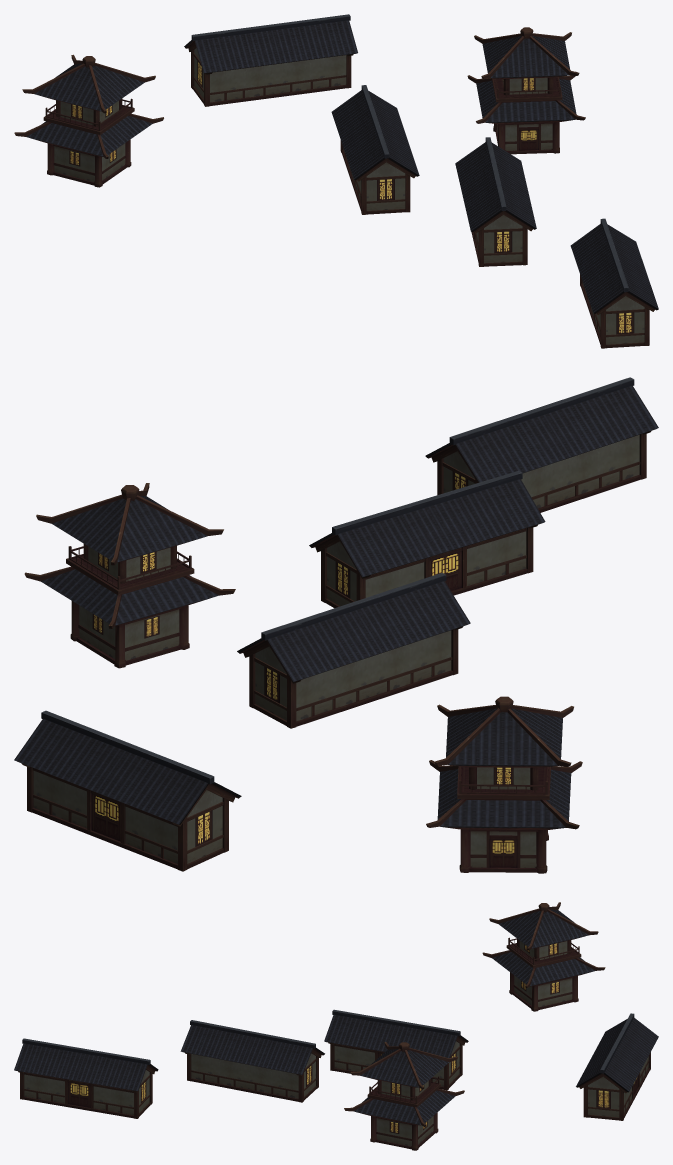
Rendered from fangzi01.FBX.
The picture shows the model from 3 angles, top to bottom: view 1: azimuth 30°, elevation 25°; view 2: azimuth 150°, elevation 25°; view 3: azimuth 270°, elevation 25°; orthographic projection. The views are drawn at different scales.
Visible parts, largest first — view 1: fangzi01; view 2: fangzi01; view 3: fangzi01.
Part boxes in pixels (<box>): fangzi01: <box>14,14,658,348</box>; fangzi01: <box>14,377,658,873</box>; fangzi01: <box>14,902,658,1150</box>.
Size of the model in its own units: 6944 by 1673 by 9739.
